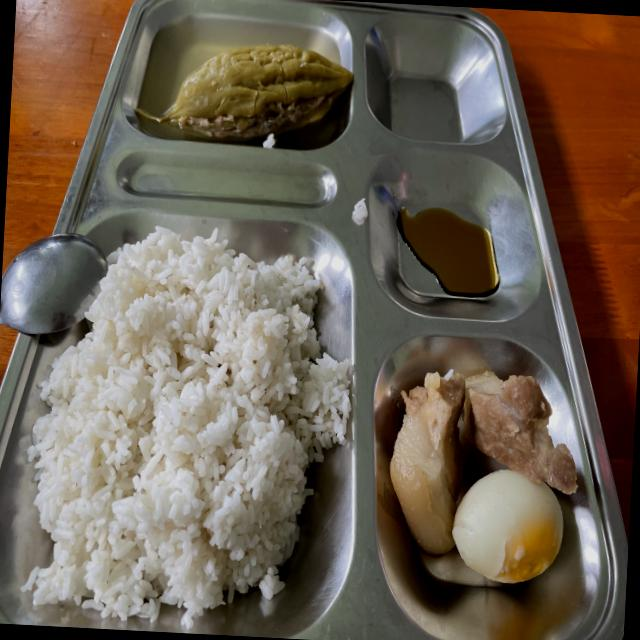com: (23, 227, 352, 629)
kho qua: (137, 45, 353, 138)
kho trung: (375, 370, 577, 585)
